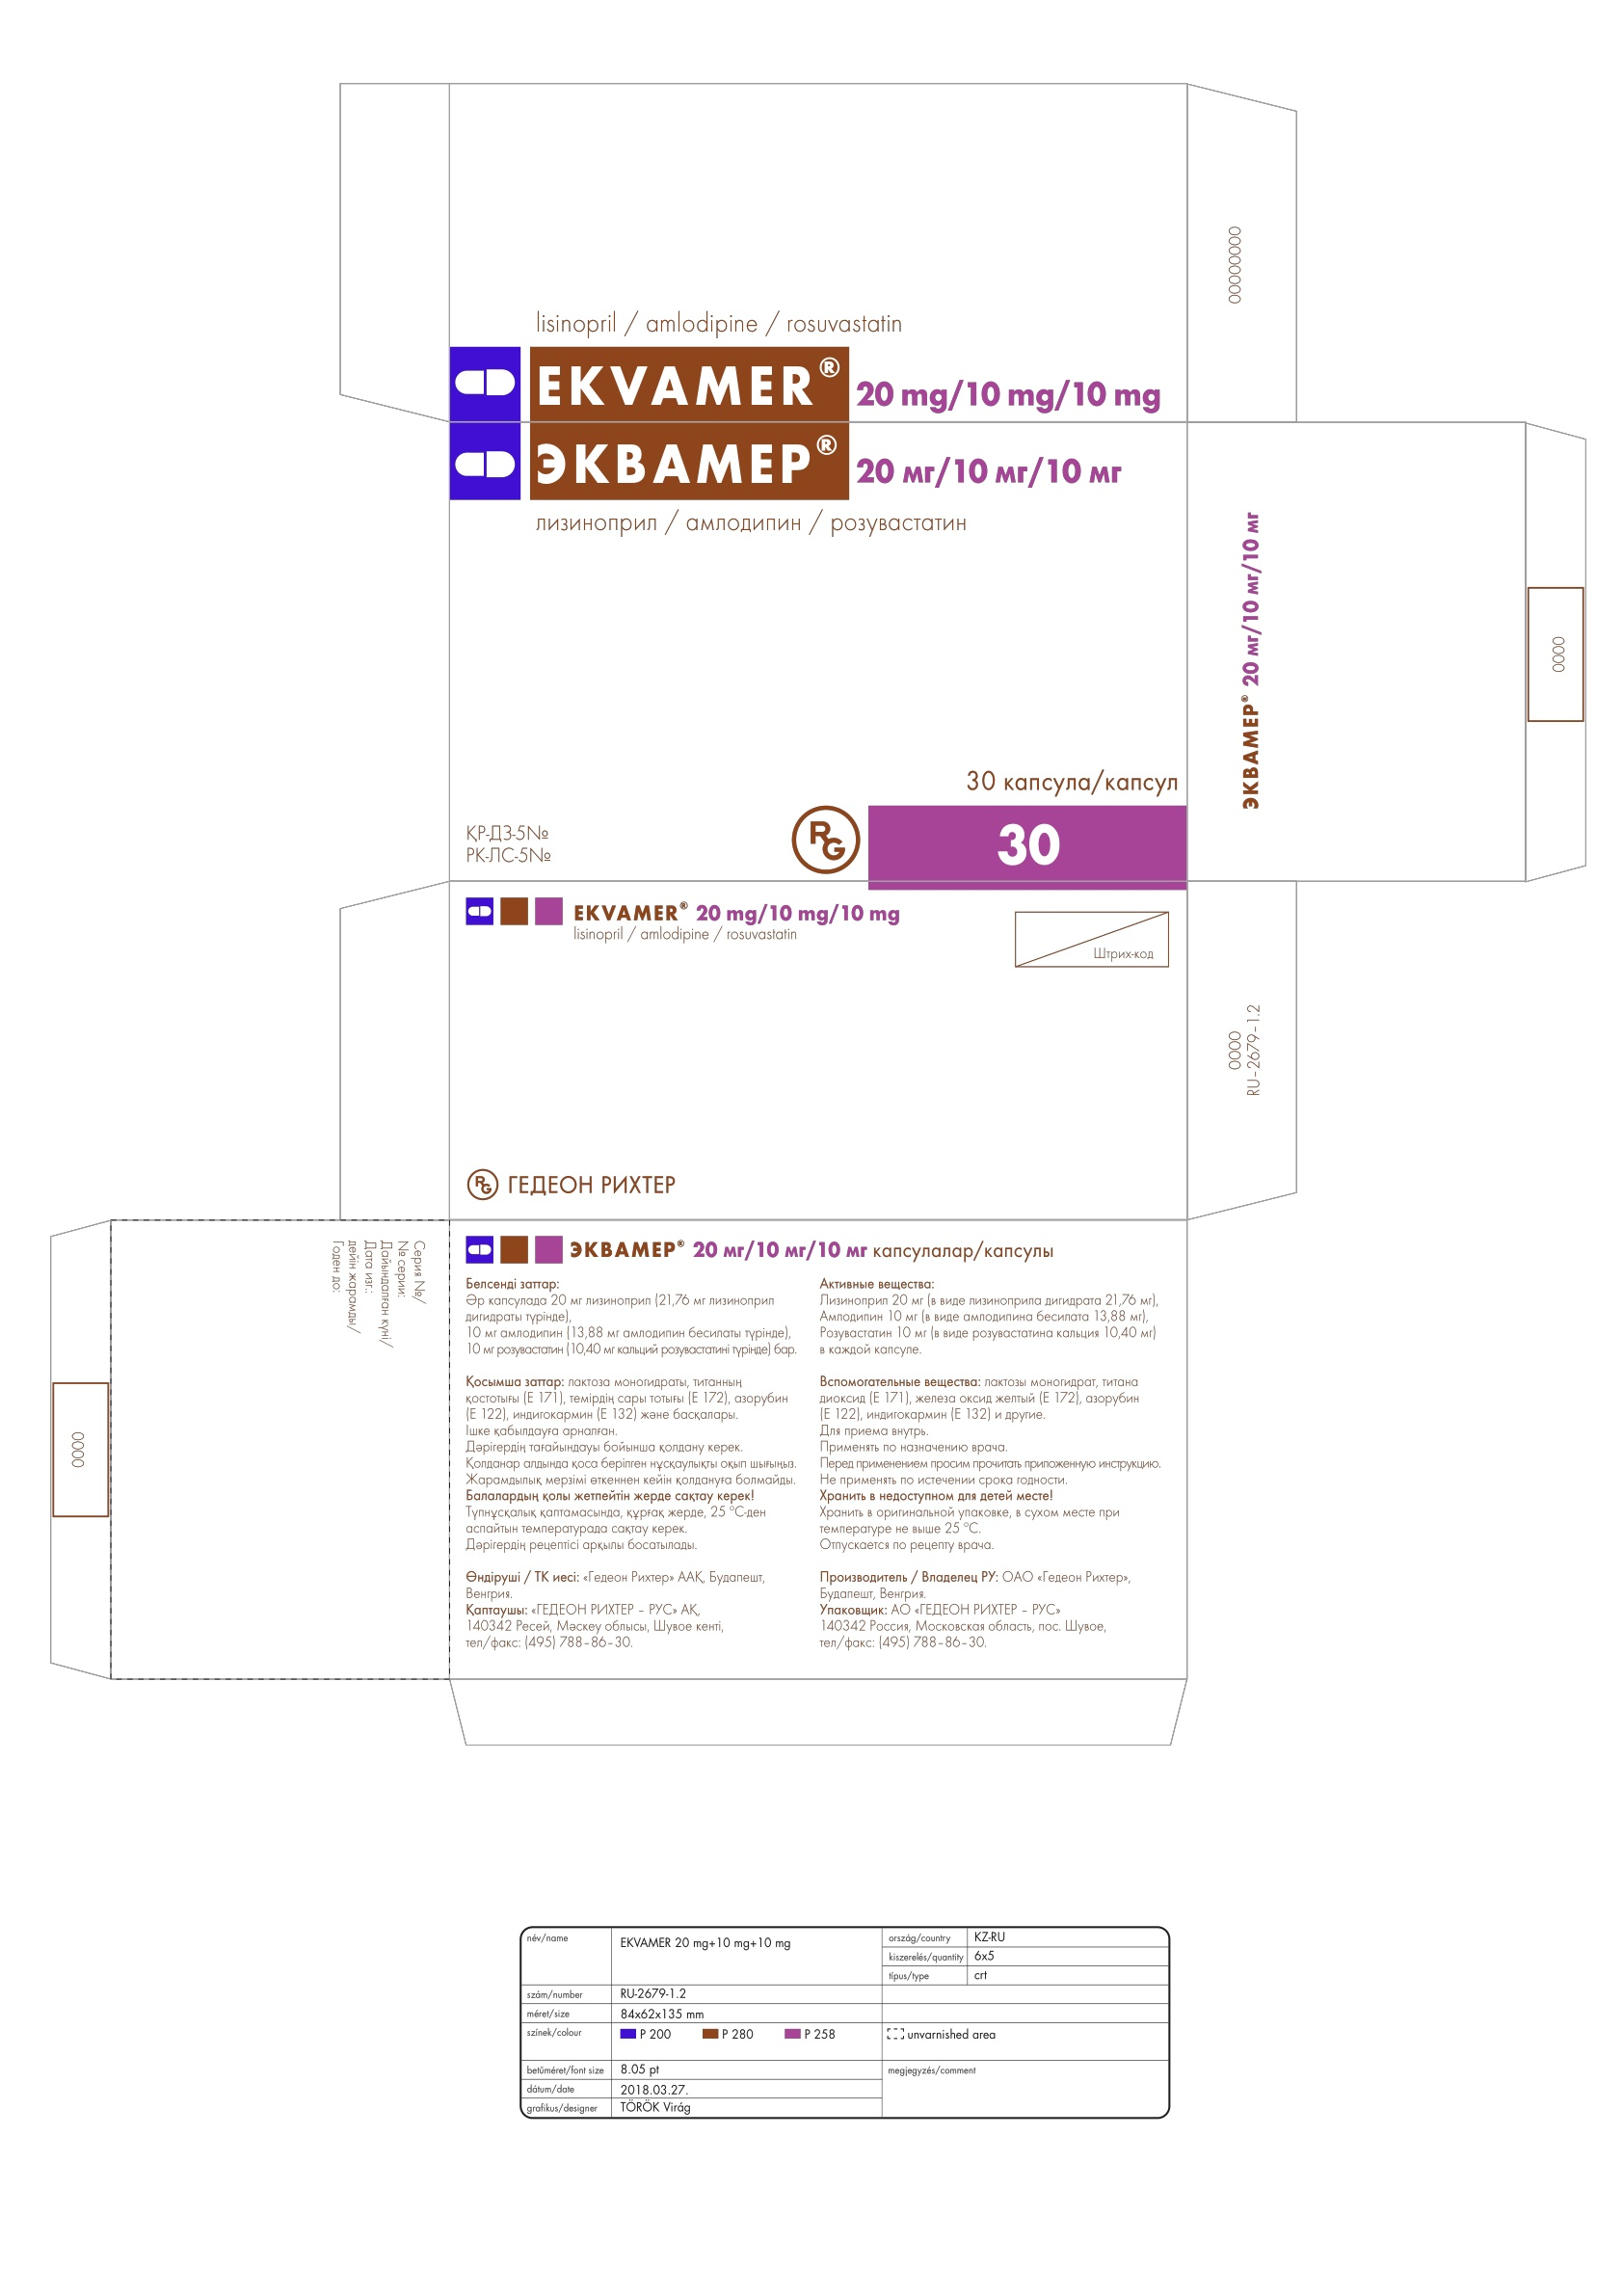merged_cells: (516, 1924, 1172, 2120)
